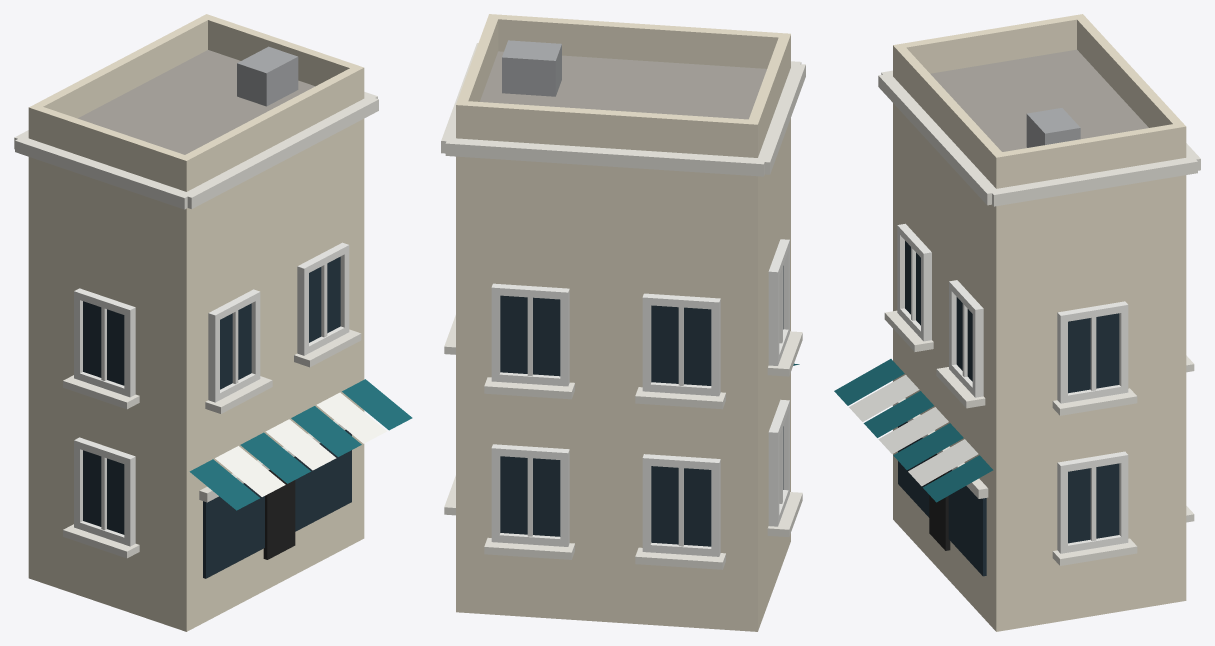
3 views of the same model, side by side, from view 1: azimuth 30°, elevation 25°; view 2: azimuth 150°, elevation 25°; view 3: azimuth 270°, elevation 25° (orthographic). The views are drawn at different scales.
Visible parts, largest first — view 1: b11751; view 2: b11751; view 3: b11751.
Part boxes in pixels (<box>): b11751: <box>14,14,412,631</box>; b11751: <box>441,14,805,631</box>; b11751: <box>834,14,1200,631</box>.
Bounding box in the file's own units: 2955 × 4136 × 2879.
